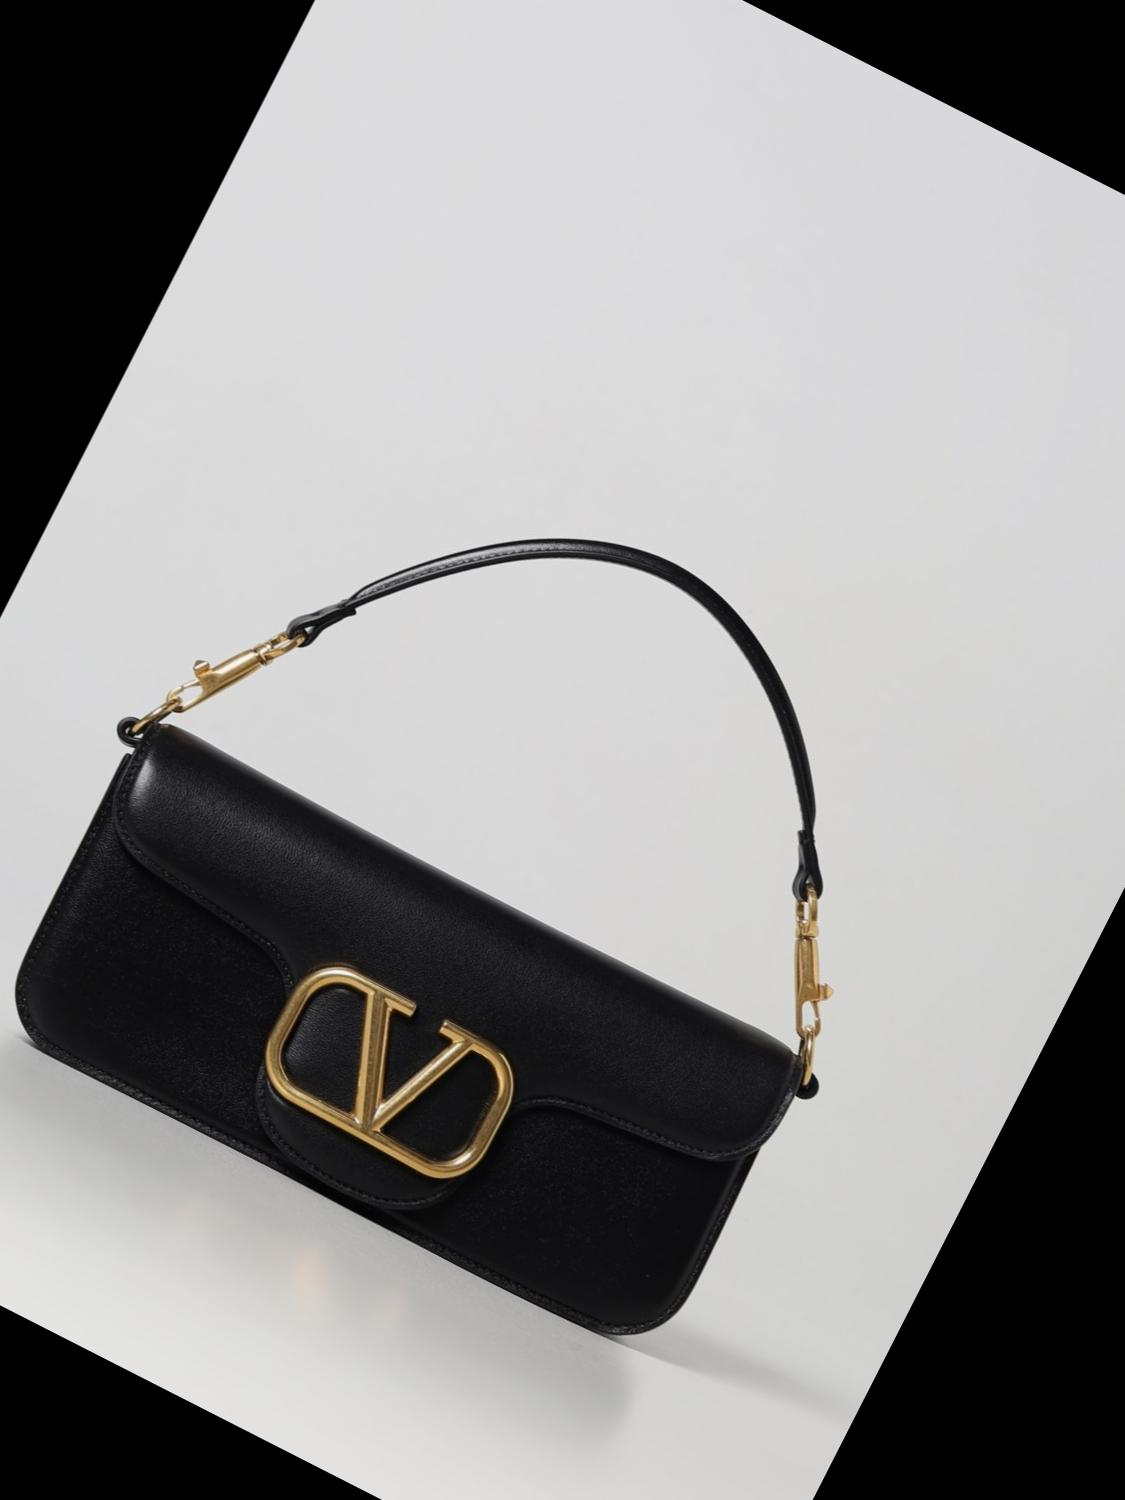VALENTINO: (245, 948, 533, 1195)
